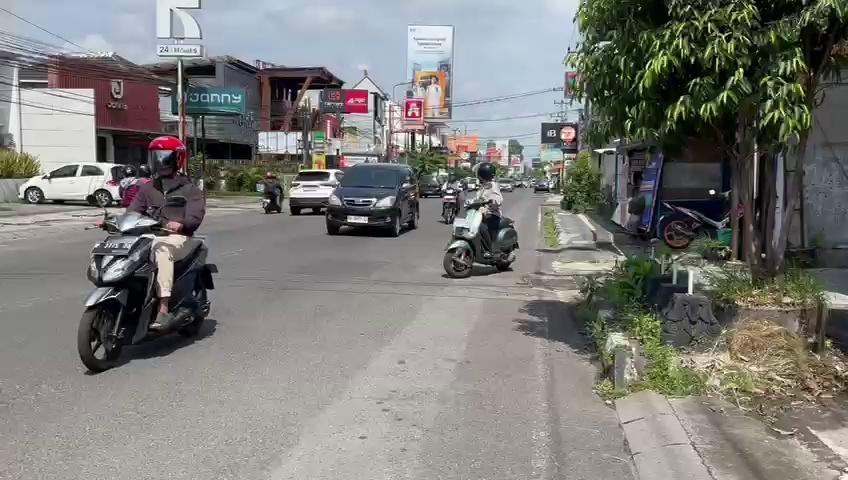helm: (144, 133, 188, 182)
riding: (73, 130, 227, 380)
